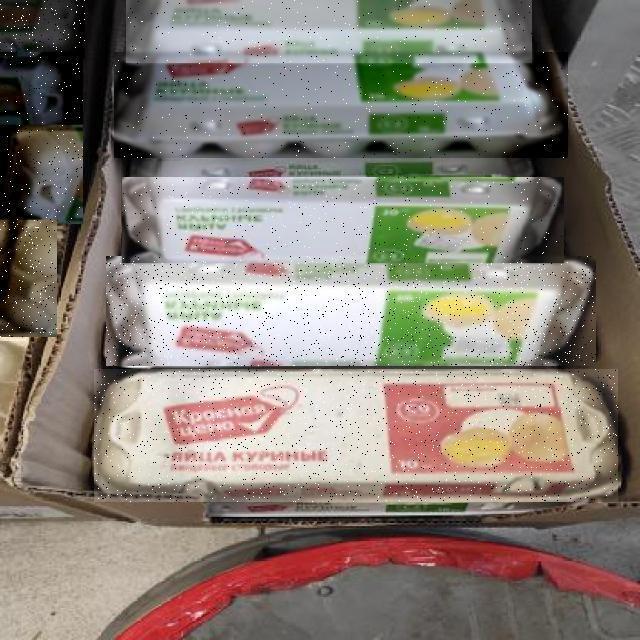Eggs: (94, 369, 618, 502), (106, 256, 596, 366), (115, 53, 569, 159), (122, 177, 564, 263), (126, 0, 532, 63), (0, 125, 83, 224), (0, 220, 57, 337), (0, 52, 83, 131), (0, 0, 85, 57)
